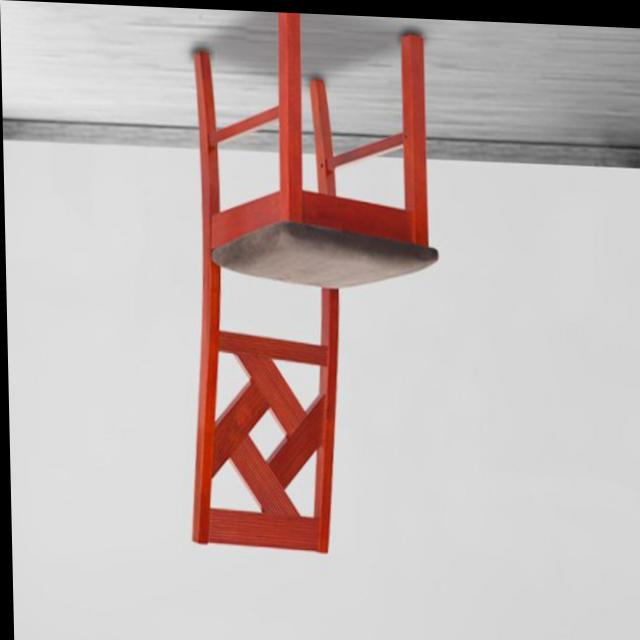Chair: (187, 7, 446, 556)
